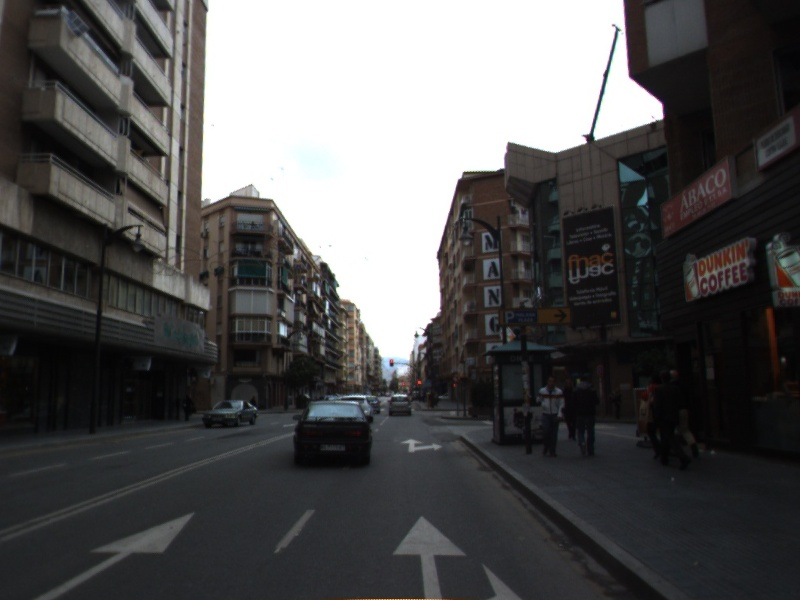STRAIGHT: (30, 509, 197, 600), (391, 513, 469, 600)
STRAIGHT_RIGHT: (398, 437, 446, 454)
